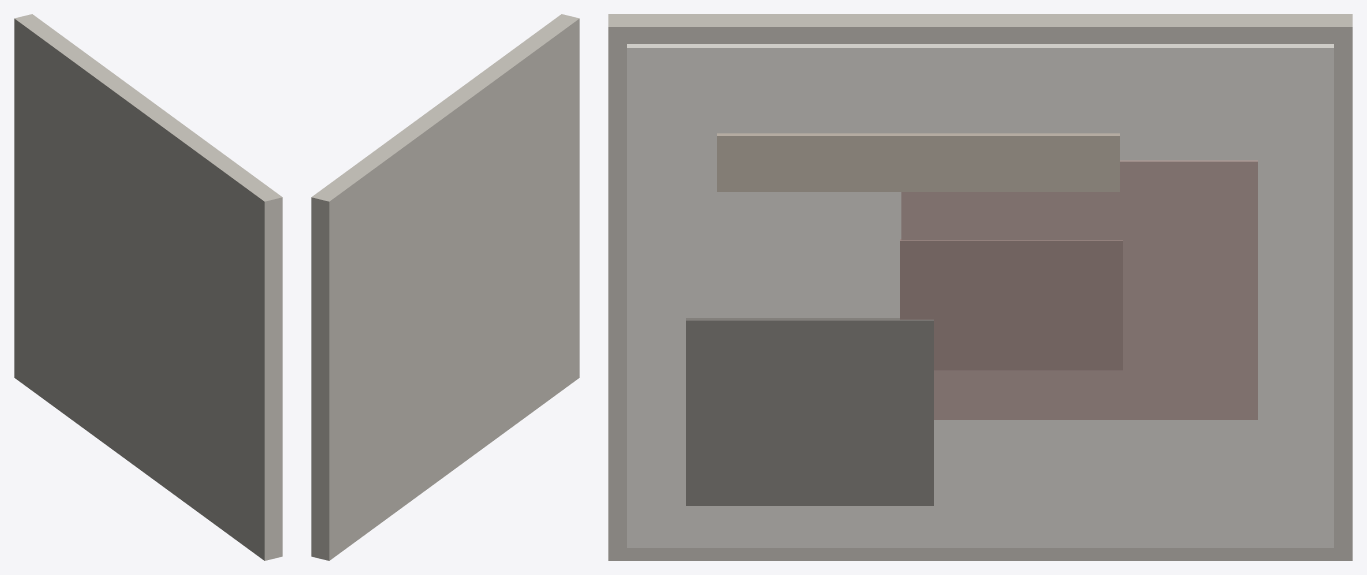
File: art_w4.glb
The picture shows the model from 3 angles, left to right: view 1: azimuth 30°, elevation 25°; view 2: azimuth 150°, elevation 25°; view 3: azimuth 270°, elevation 25°; orthographic projection. The views are drawn at different scales.
Visible parts, largest first — view 1: root; view 2: root; view 3: root.
Part boxes in pixels (x1,y1,x2,y2): root: [14, 14, 282, 560]; root: [311, 14, 579, 560]; root: [608, 14, 1352, 560].
Size of the model in its own units: 0.0482 by 0.5791 by 0.7315.
